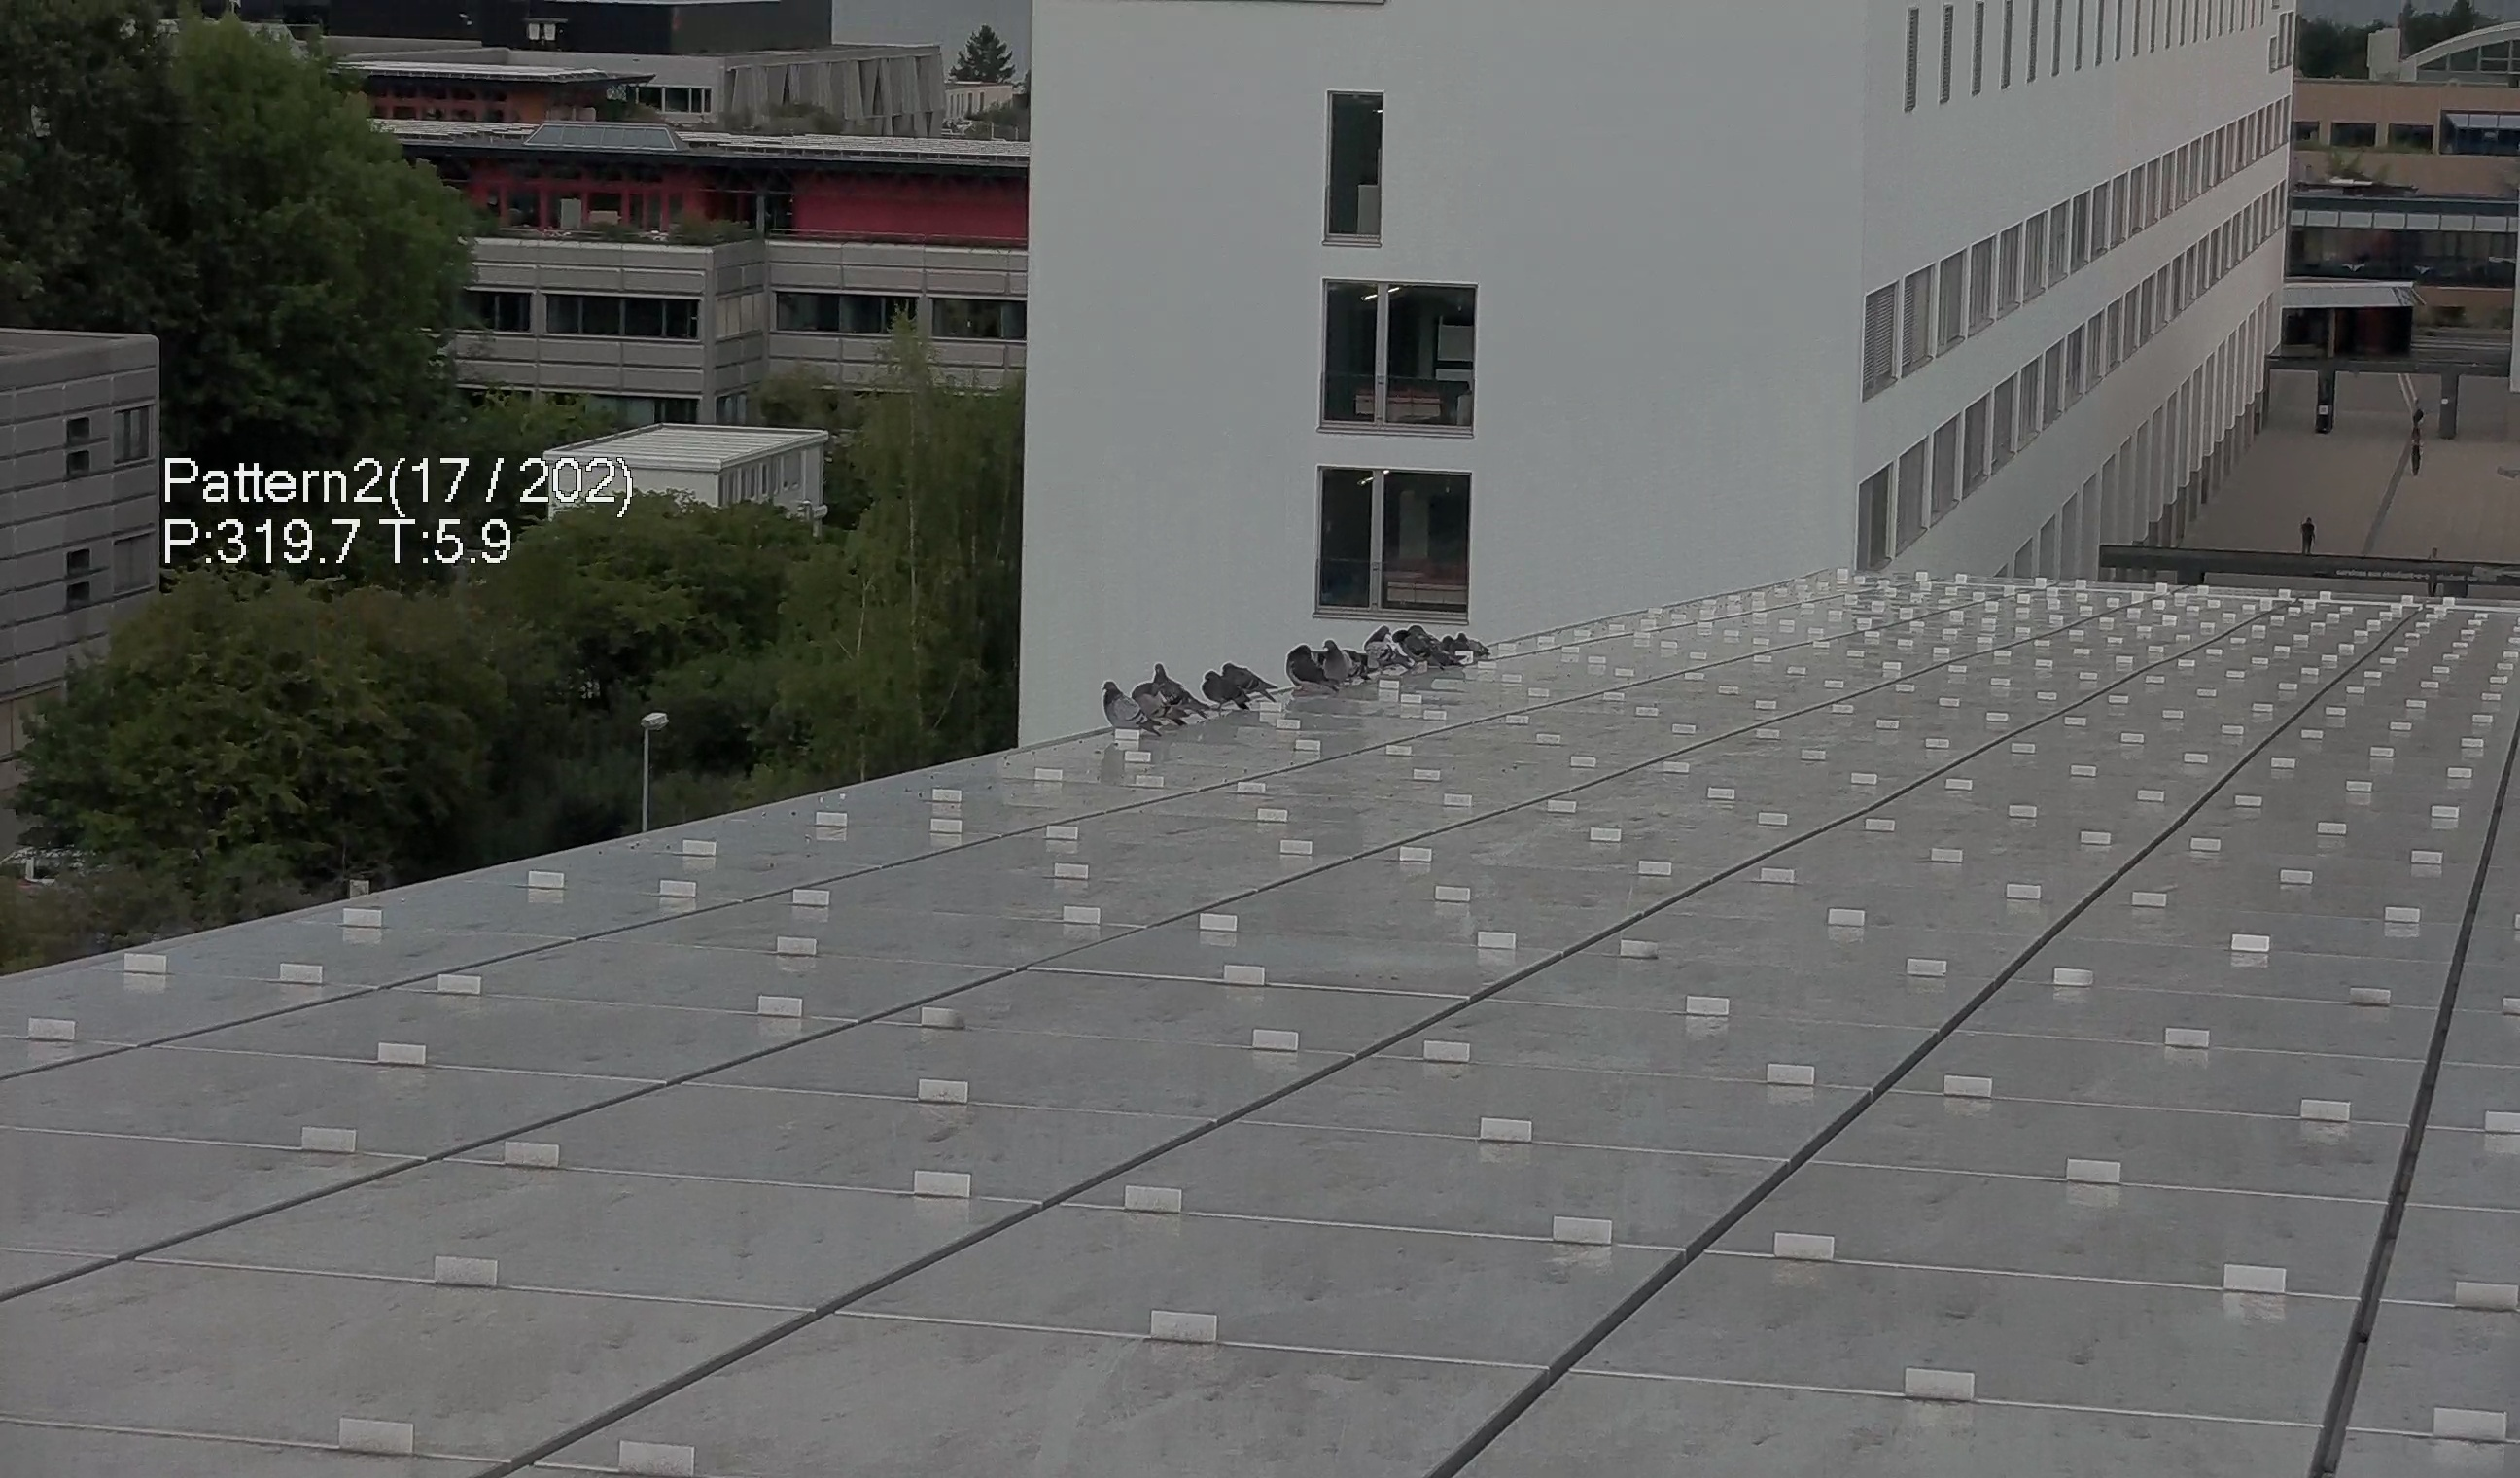Pigeon: (1090, 679, 1162, 750), (1152, 660, 1212, 720), (1129, 677, 1187, 725), (1217, 658, 1275, 706), (1410, 621, 1460, 670), (1284, 644, 1331, 695), (1393, 626, 1440, 672), (1201, 667, 1247, 711), (1322, 635, 1349, 697), (1366, 625, 1402, 669), (1446, 630, 1486, 663)
